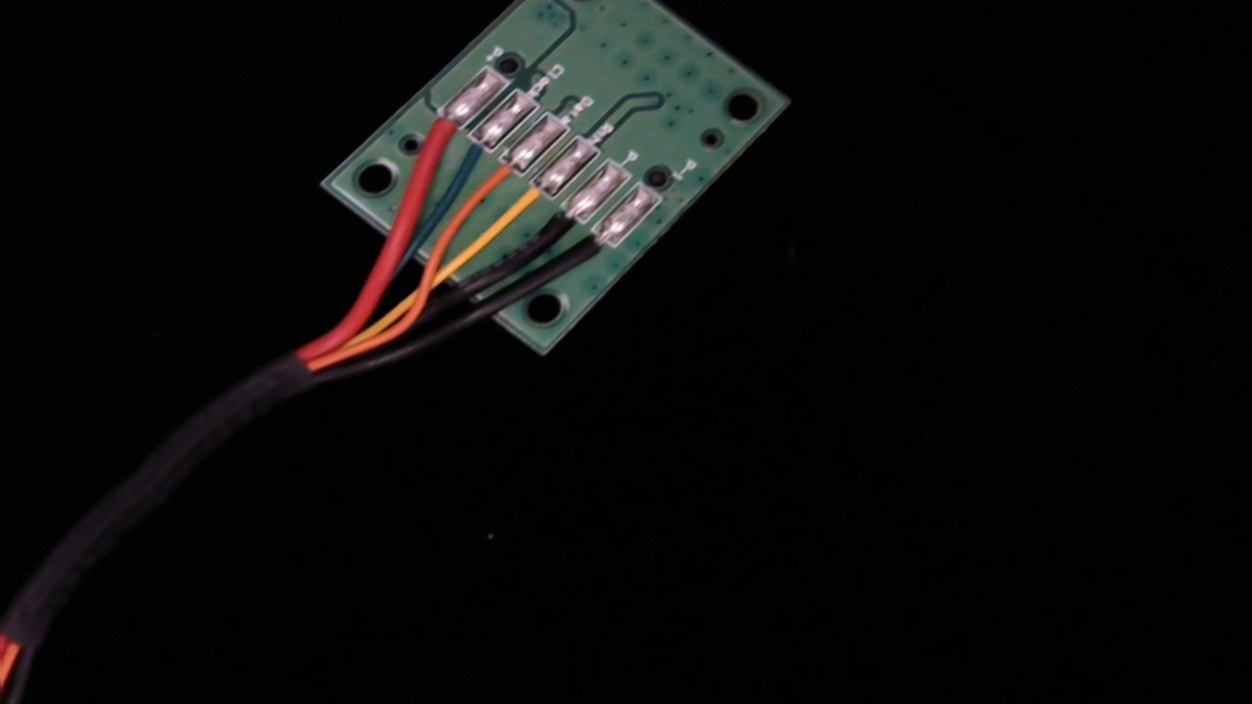Black: (520, 192, 598, 259)
Black1: (550, 216, 629, 285)
Green: (436, 122, 507, 179)
Orange: (464, 145, 535, 204)
Red: (407, 98, 477, 154)
Yellow: (491, 167, 570, 233)
